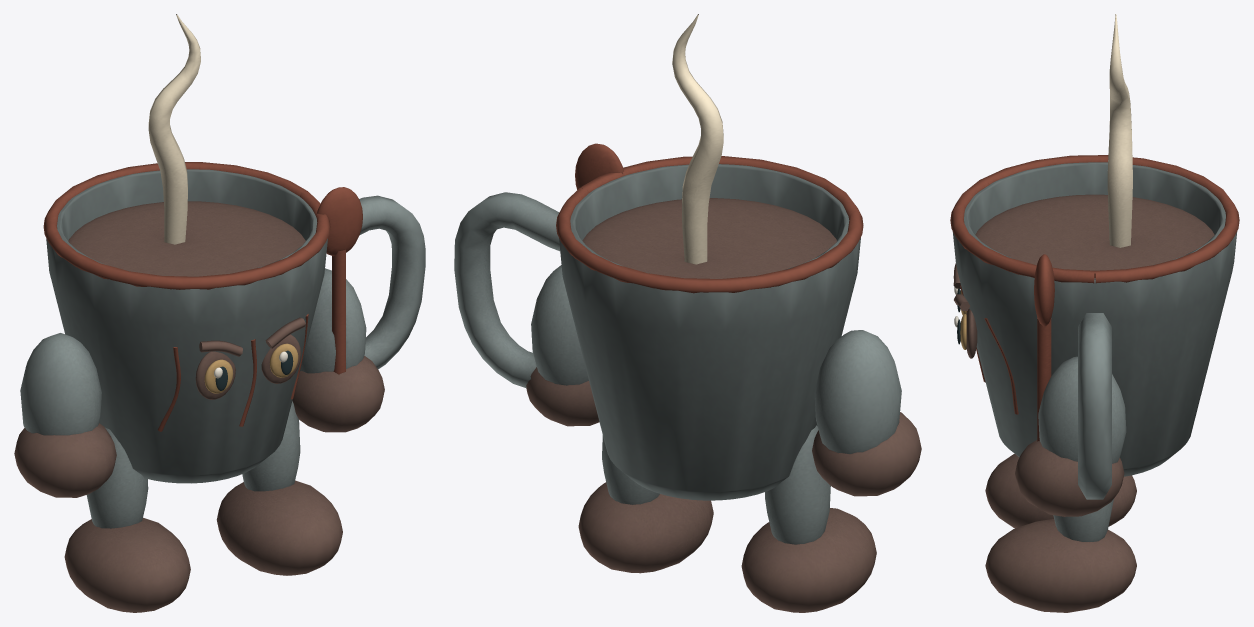
File: teacup-healer.glb
3 views of the same model, side by side, from view 1: azimuth 30°, elevation 25°; view 2: azimuth 150°, elevation 25°; view 3: azimuth 270°, elevation 25° (orthographic). The views are drawn at different scales.
Visible parts, largest first — view 1: hollow-glazed-teacup, sewn-arm, weighted-boot, sewn-arm.001, weighted-boot.001, cup-curved-handle, folded-steam-plume, enemy-eye-rim; view 2: hollow-glazed-teacup, weighted-boot, sewn-arm, weighted-boot.001, cup-curved-handle, sewn-arm.001, folded-steam-plume; view 3: hollow-glazed-teacup, weighted-boot.001, sewn-arm.001, cup-curved-handle, folded-steam-plume, weighted-boot, enemy-eye-rim.
Boxes of the visible parts, <box> form: hollow-glazed-teacup: <box>43,162,330,483</box>; sewn-arm: <box>14,333,116,497</box>; weighted-boot: <box>64,427,190,612</box>; sewn-arm.001: <box>292,187,384,432</box>; weighted-boot.001: <box>216,401,342,575</box>; cup-curved-handle: <box>359,195,425,369</box>; folded-steam-plume: <box>148,14,200,244</box>; enemy-eye-rim: <box>195,317,305,399</box>; hollow-glazed-teacup: <box>556,156,863,500</box>; weighted-boot: <box>741,425,876,612</box>; sewn-arm: <box>812,330,921,496</box>; weighted-boot.001: <box>578,435,713,573</box>; cup-curved-handle: <box>454,192,560,388</box>; sewn-arm.001: <box>526,143,623,426</box>; folded-steam-plume: <box>672,14,723,264</box>; hollow-glazed-teacup: <box>950,155,1239,476</box>; weighted-boot.001: <box>985,499,1136,612</box>; sewn-arm.001: <box>1015,254,1126,516</box>; cup-curved-handle: <box>1078,313,1111,499</box>; folded-steam-plume: <box>1107,14,1132,247</box>; weighted-boot: <box>985,454,1136,528</box>; enemy-eye-rim: <box>953,263,977,358</box>.
Bounding box in the file's own units: 1.22 × 1.57 × 0.7398.
1 material, 1 textured.
